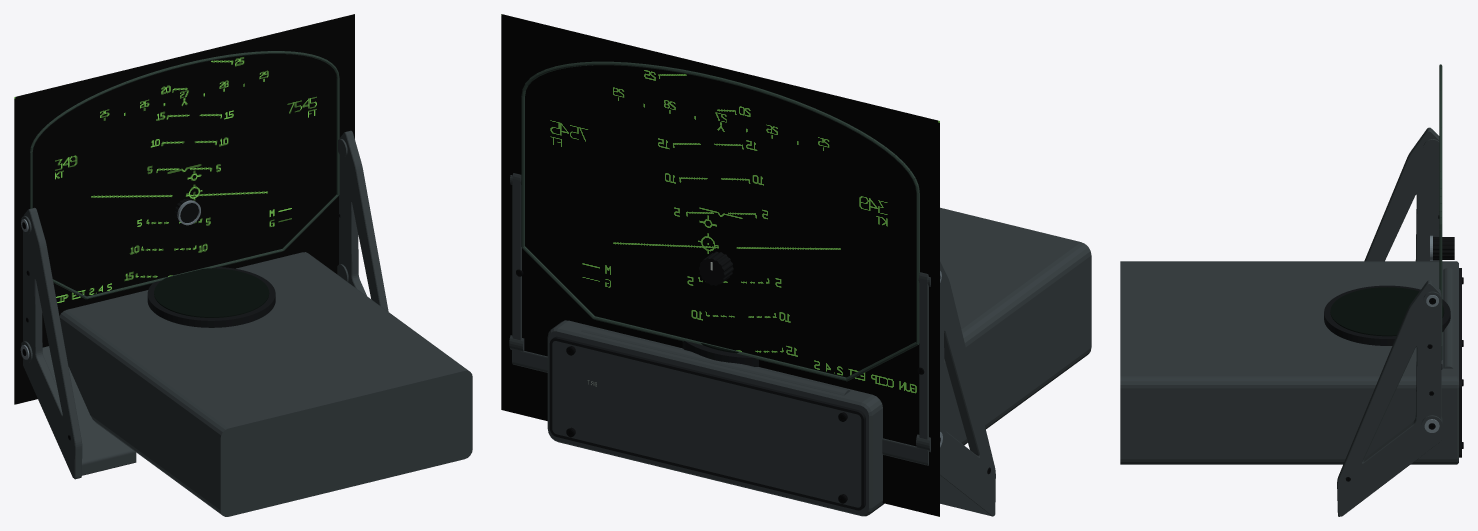
The model's file is MFDStudio.obj.
The picture shows the model from 3 angles, left to right: view 1: azimuth 30°, elevation 25°; view 2: azimuth 150°, elevation 25°; view 3: azimuth 270°, elevation 25°; orthographic projection. The views are drawn at different scales.
Visible parts, largest first — view 1: MFDStudioBody, MFDStudioScreen, MFDStudioCombinerFrame, MFDStudioKnob0; view 2: MFDStudioScreen, MFDStudioBody, MFDStudioCombinerFrame, MFDStudioKnob0; view 3: MFDStudioBody, MFDStudioCombinerFrame, MFDStudioKnob0.
Part boxes in pixels (x1,y1,x2,y2): MFDStudioBody: (59,252,472,516); MFDStudioScreen: (14,14,354,404); MFDStudioCombinerFrame: (20,51,388,479); MFDStudioKnob0: (174,198,200,225); MFDStudioScreen: (501,14,939,516); MFDStudioBody: (547,207,1091,516); MFDStudioCombinerFrame: (509,61,995,516); MFDStudioKnob0: (699,251,733,285); MFDStudioBody: (1120,261,1461,464); MFDStudioCombinerFrame: (1337,64,1442,516); MFDStudioKnob0: (1430,235,1454,260).
Size of the model in its own units: 0.255 by 0.2479 by 0.225.
Materials: 11 (1 with a texture image).
